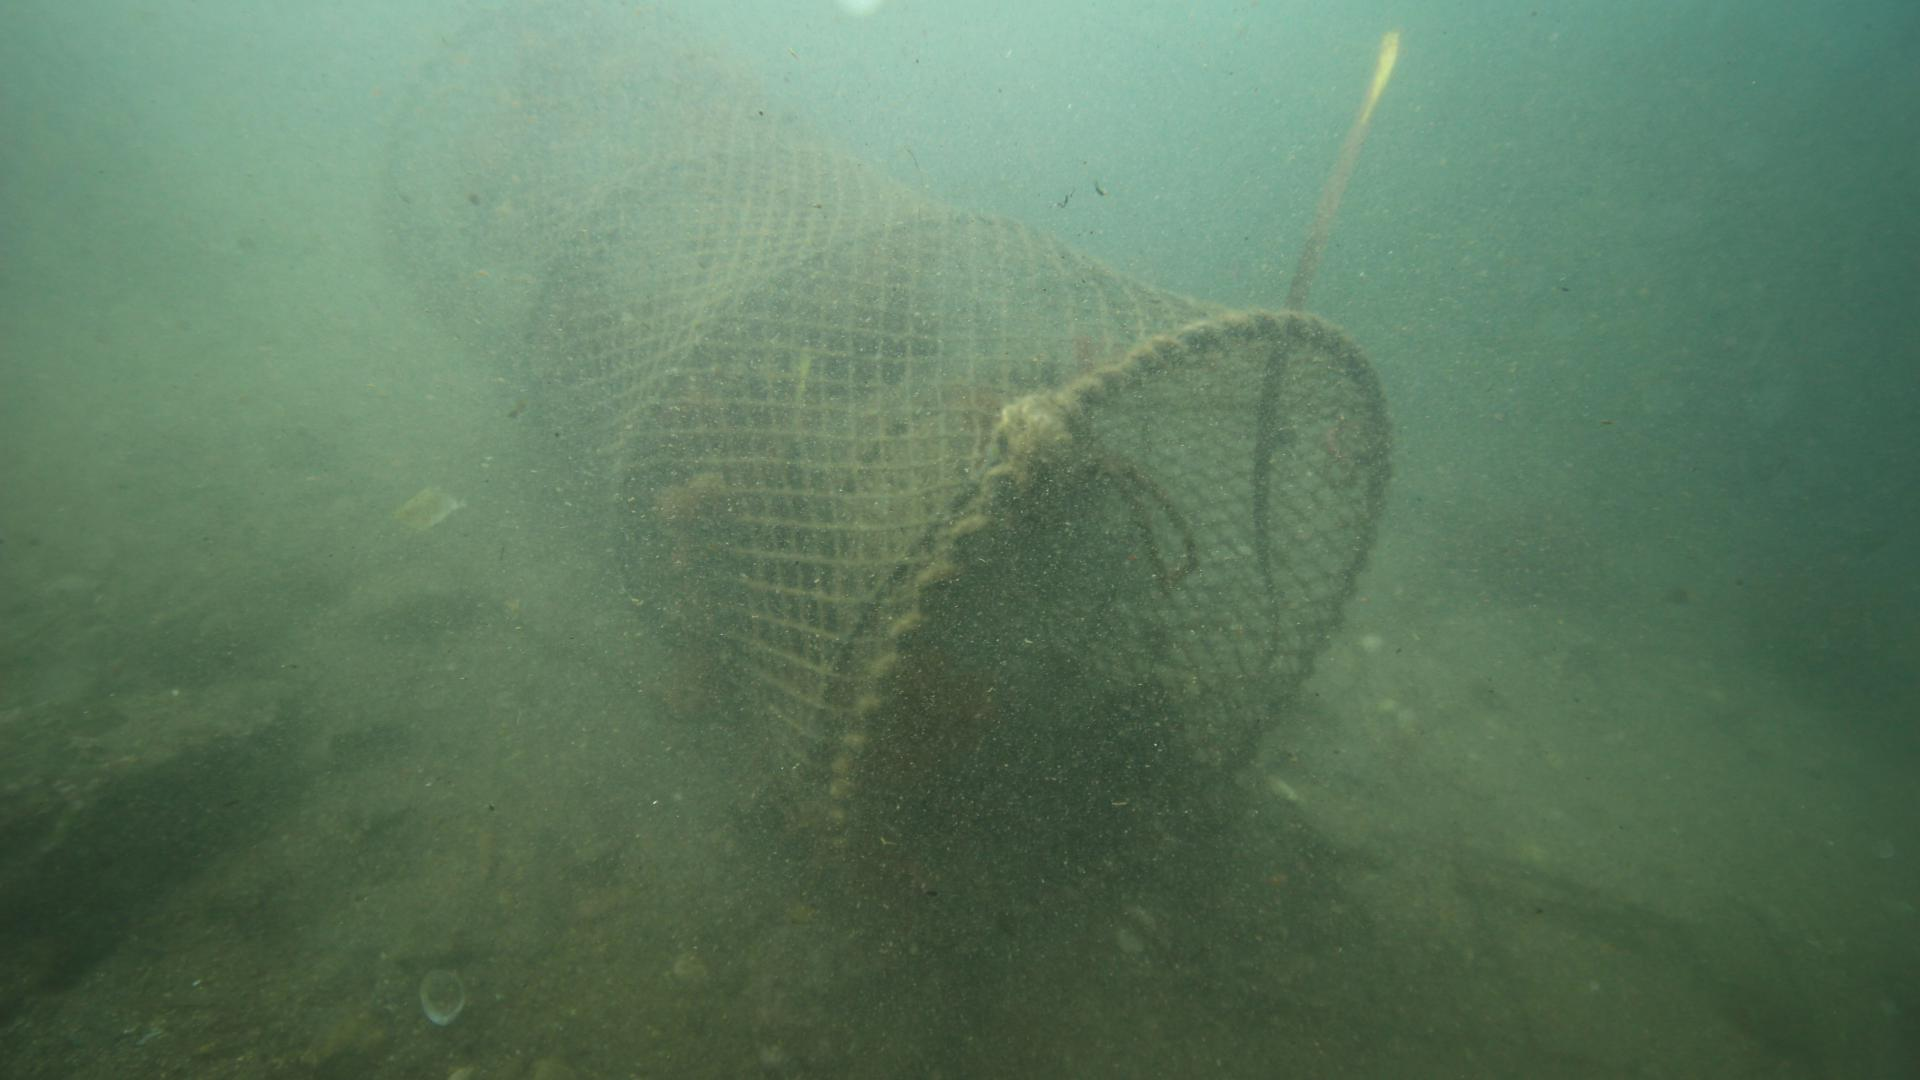spring fish trap: (377, 5, 1382, 965)
